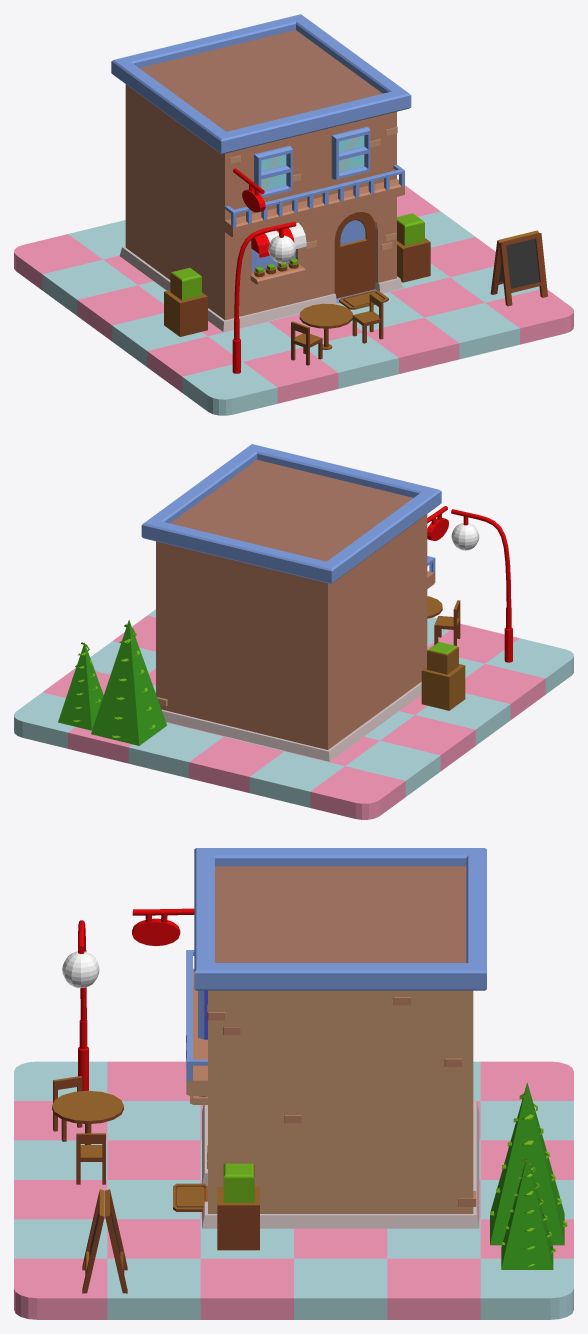
The model's file is coffe_shop.glb.
3 views of the same model, one above another, from view 1: azimuth 30°, elevation 25°; view 2: azimuth 150°, elevation 25°; view 3: azimuth 270°, elevation 25° (orthographic). The views are drawn at different scales.
Parts seen in each view (by area): view 1: Casa_6, Cube.055_5, Maseta_27, Cubo.000_4, Ventanas_8, Cartel_26, Corniza_10, Baranda_7, Mesa_23, Poste.001_30, Silla.002_24, Toldo_9 (+3 smaller); view 2: Casa_6, Cube.055_5, Arbol.001_0, Maseta_27, Cubo.000_4, Arbol.002_2, Poste.001_30, Silla.001_25, Lampara_20; view 3: Casa_6, Cube.055_5, Arbol.001_0, Maseta_27, Arbol.002_2, Cubo.000_4, Cartel_26, Mesa_23, Corniza_10, Lampara_20, Letreo_29, Silla.002_24 (+6 smaller).
Part boxes in pixels (x1,y1,x2,y2): Casa_6: (111,14,411,331); Cube.055_5: (14,185,573,403); Maseta_27: (164,213,430,336); Cubo.000_4: (182,362,277,415); Ventanas_8: (254,126,370,197); Cartel_26: (490,230,547,306); Corniza_10: (224,179,404,236); Baranda_7: (225,164,404,227); Mesa_23: (299,303,352,349); Poste.001_30: (233,168,296,319); Silla.002_24: (352,293,383,343); Toldo_9: (251,222,306,257); Casa_6: (141,444,441,761); Cube.055_5: (14,609,545,819); Arbol.001_0: (91,620,166,745); Maseta_27: (421,642,465,710); Cubo.000_4: (485,638,573,694); Arbol.002_2: (58,642,103,730); Poste.001_30: (427,506,511,608); Silla.001_25: (434,600,460,645); Lampara_20: (451,523,479,550); Casa_6: (194,848,486,1228); Cube.055_5: (14,1061,573,1319); Arbol.001_0: (490,1082,564,1245); Maseta_27: (217,1163,259,1250); Arbol.002_2: (501,1156,553,1269); Cubo.000_4: (14,1061,107,1100); Cartel_26: (82,1189,127,1293); Mesa_23: (52,1090,123,1144); Corniza_10: (186,968,207,1095); Lampara_20: (62,951,99,988); Letreo_29: (132,918,180,945); Silla.002_24: (76,1133,105,1184).
Bounding box in the file's own units: 6 × 3.34 × 6.
